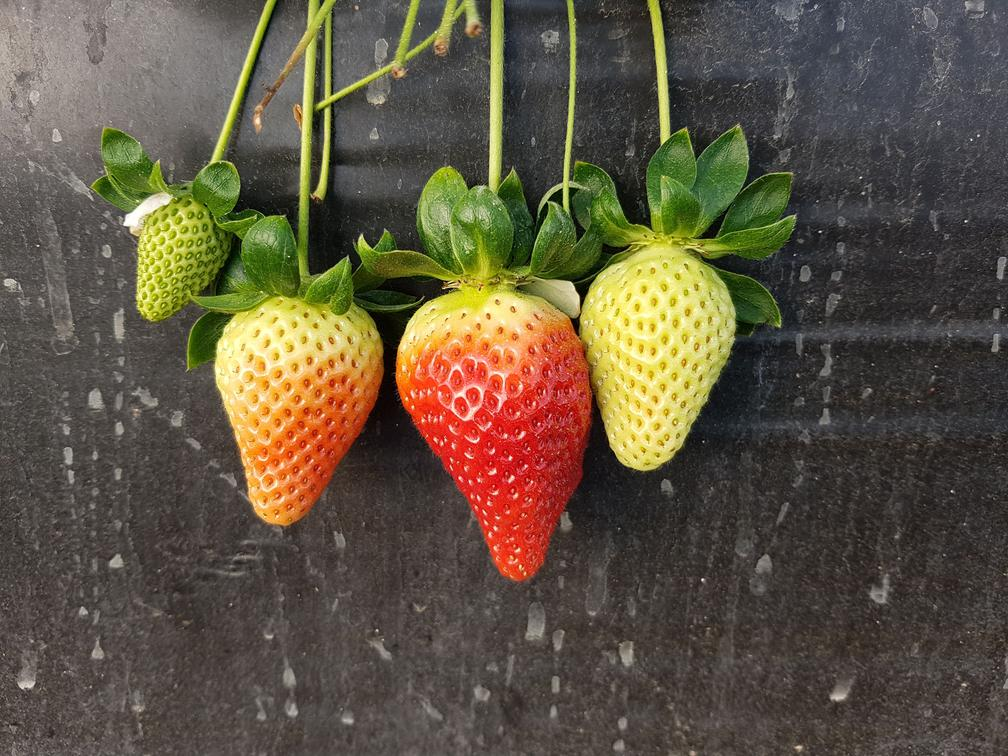Ripe: (391, 292, 590, 588)
Unripe: (217, 299, 383, 527), (586, 237, 741, 480), (133, 193, 228, 319)
